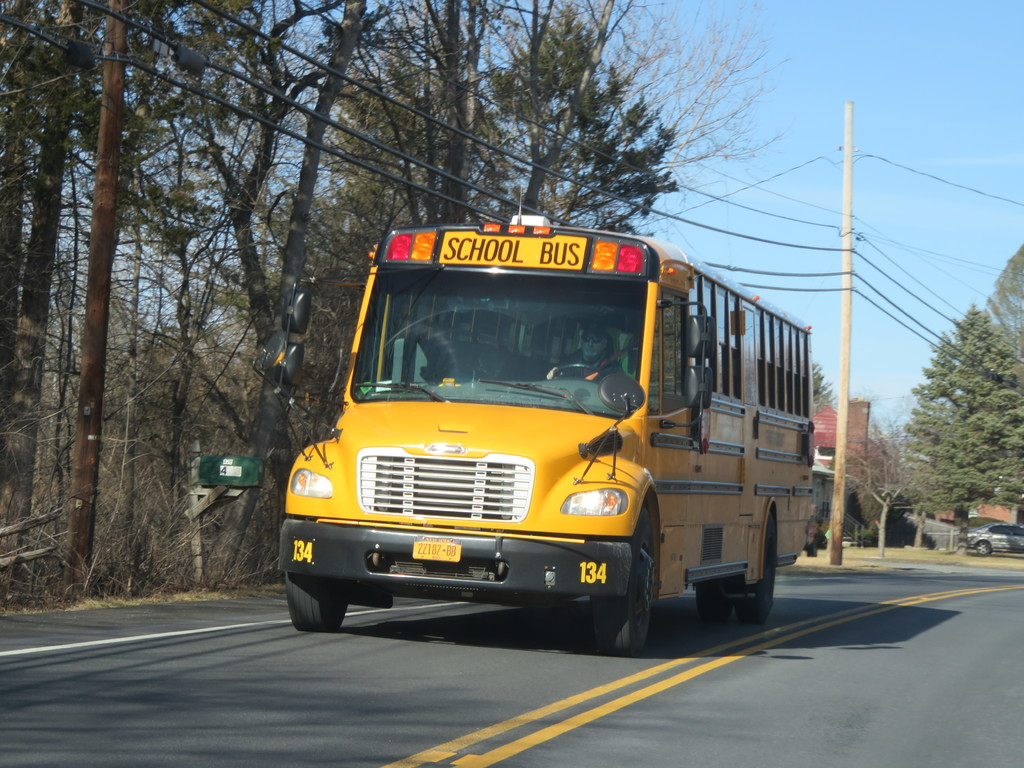Bus: (278, 219, 816, 645)
